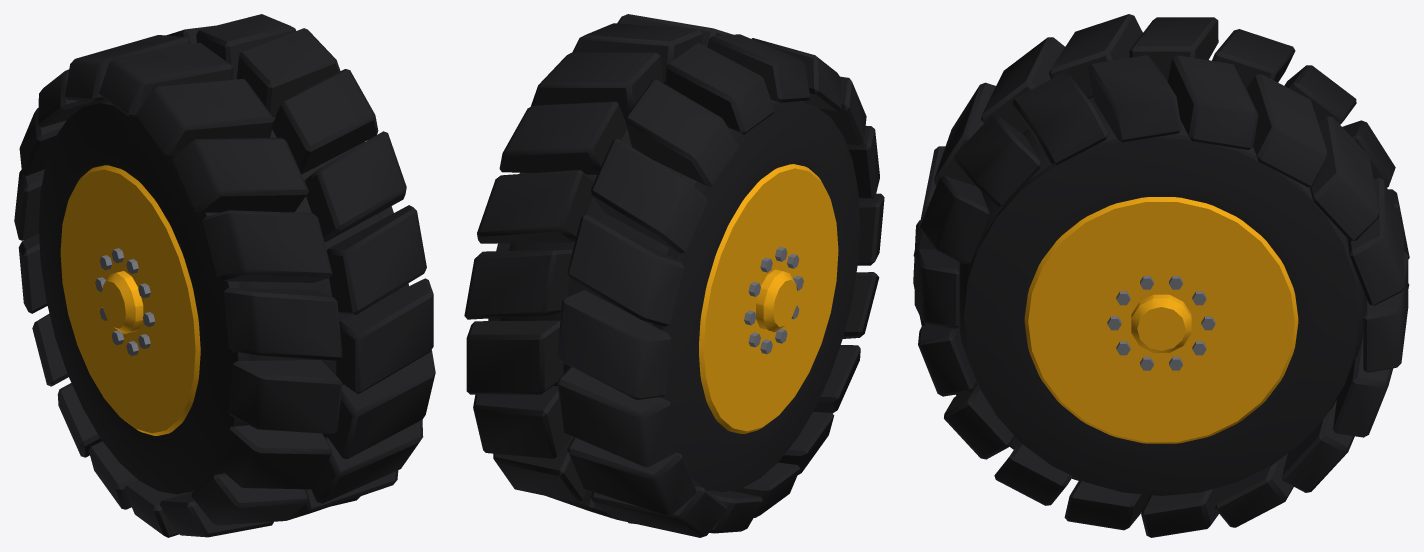
File: wheel.glb
3 views of the same model, side by side, from view 1: azimuth 30°, elevation 25°; view 2: azimuth 150°, elevation 25°; view 3: azimuth 270°, elevation 25° (orthographic).
Parts seen in each view (by area): view 1: HaulerWheel; view 2: HaulerWheel; view 3: HaulerWheel.
Boxes of the visible parts, x1,y1,x2,y2 form: HaulerWheel: (14, 14, 435, 537); HaulerWheel: (464, 14, 884, 537); HaulerWheel: (913, 14, 1409, 537).
Bounding box in the file's own units: 1.01 × 1.97 × 1.97.
